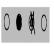correct: (16, 13, 22, 32)
not correct: (28, 10, 35, 36)
